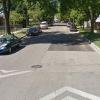Tree: (59, 2, 100, 39)
